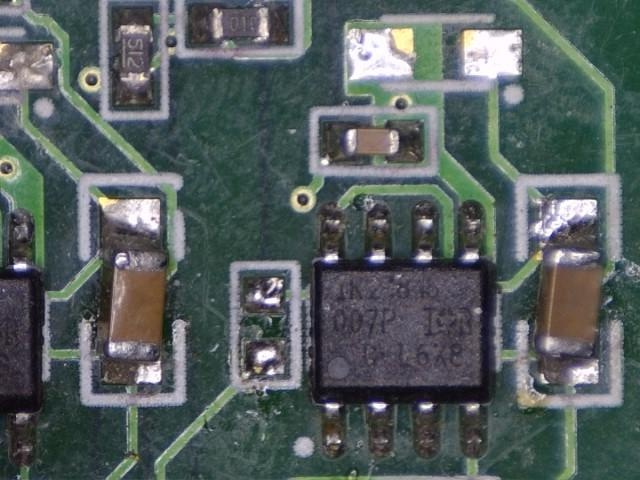pcb_defect: (98, 197, 170, 387), (532, 197, 604, 385)
